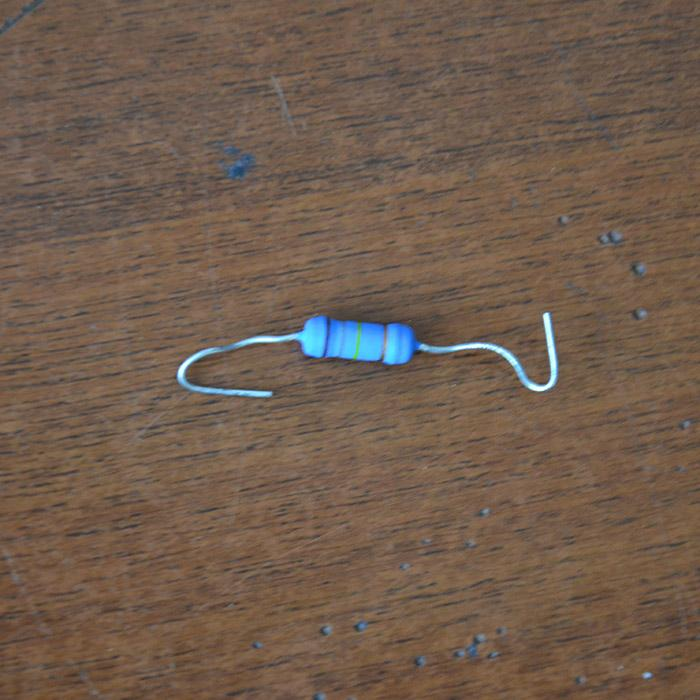resistor: (298, 314, 416, 365)
